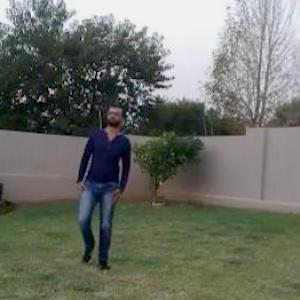follow: (73, 97, 133, 269)
